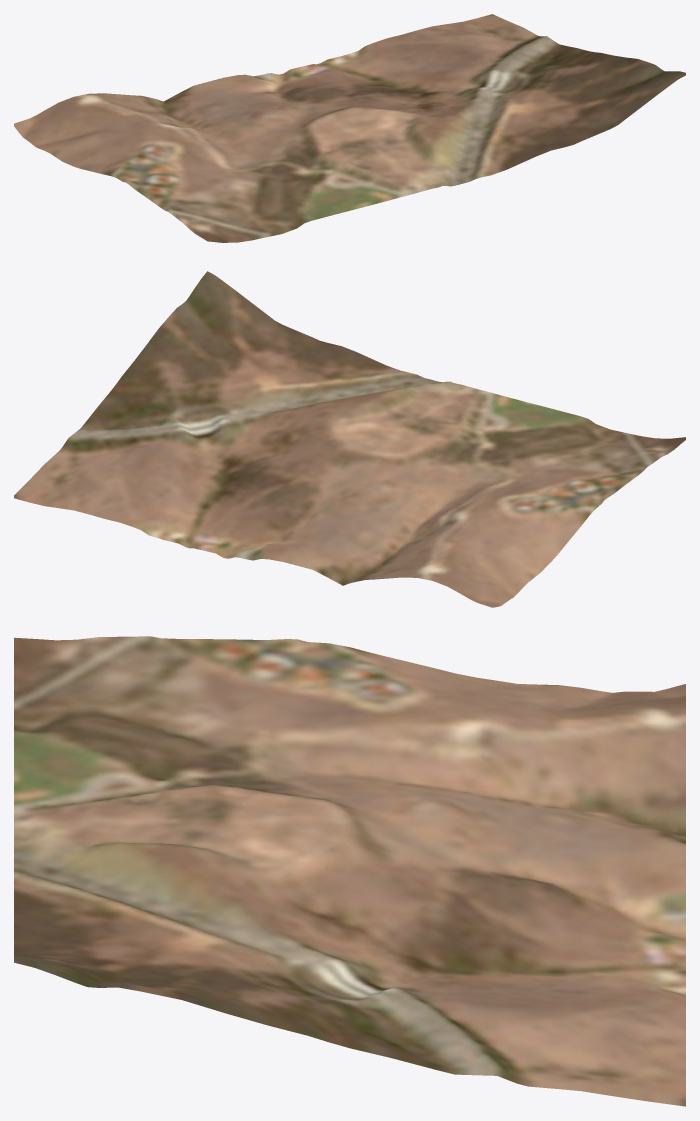
The model's file is terrain_r7_c3_lod1.glb.
The picture shows the model from 3 angles, top to bottom: view 1: azimuth 30°, elevation 25°; view 2: azimuth 150°, elevation 25°; view 3: azimuth 270°, elevation 25°; orthographic projection. The views are drawn at different scales.
Visible parts, largest first — view 1: terrain_r7_c3_lod1; view 2: terrain_r7_c3_lod1; view 3: terrain_r7_c3_lod1.
Part boxes in pixels (x1,y1,x2,y2): terrain_r7_c3_lod1: (14, 14, 685, 242); terrain_r7_c3_lod1: (14, 271, 685, 607); terrain_r7_c3_lod1: (14, 636, 685, 1106).
Size of the model in its own units: 1125 by 211 by 787.
Materials: 1 (1 with a texture image).
